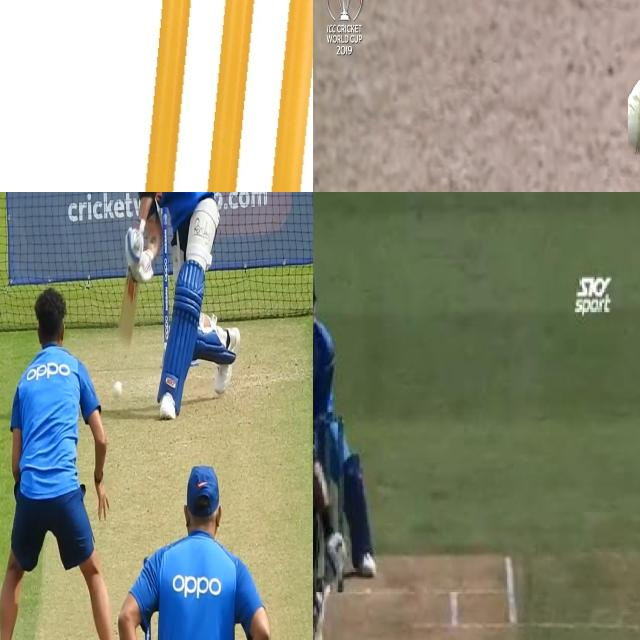Cricket ball: (628, 69, 640, 160), (113, 380, 125, 400)
Stumps: (138, 0, 313, 192)
